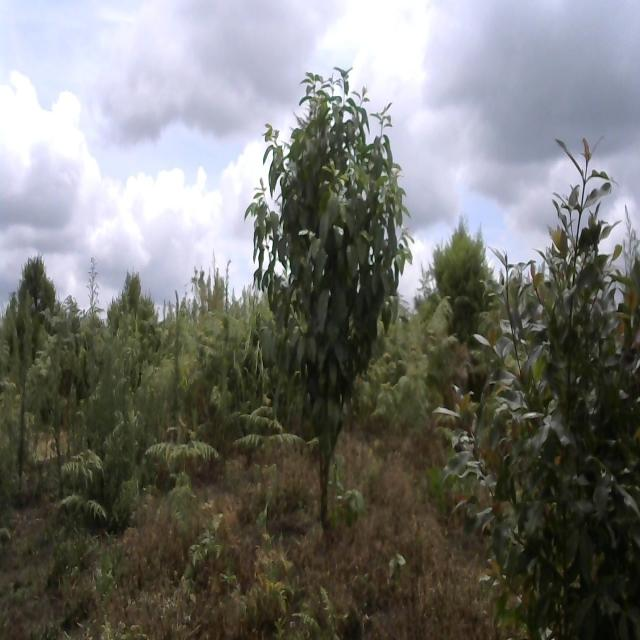Prunus Africana: (434, 82, 640, 640), (261, 21, 411, 553)
